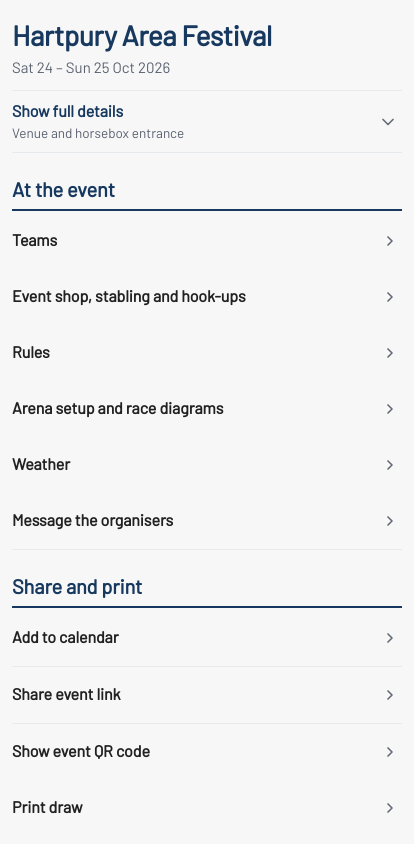
Test: DetailsTab horsebox entrance › keeps the card with directions inside Show full details, closed by default
This screenshot has width=414, height=844.
Expected: the text "Second gate on the left" is not shown
Click the button "Show full details Venue and horsebox entrance": (68, 111) [12,91,402,152]
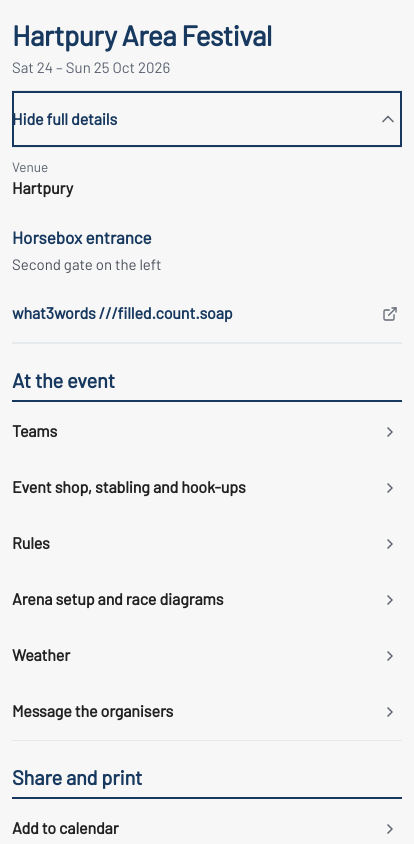
Expected: the heading "Horsebox entrance" is shown, [12,227,152,247]
Result: the text "Second gate on the left" is shown at [12,255,162,273]
